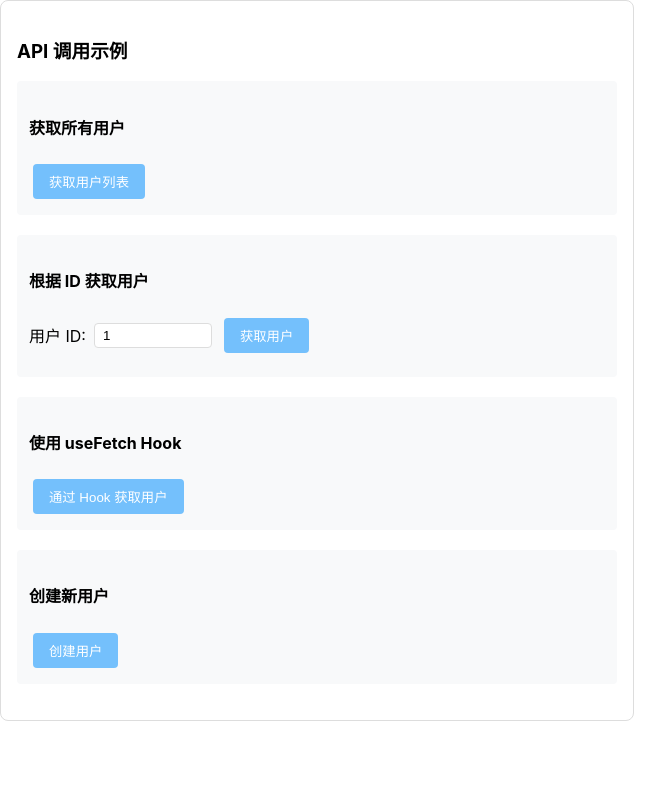
ApiExample组件 › 获取用户列表功能 › 应该处理获取用户列表的错误
Step 1. Click the button with test id "fetch-users-button" → (89, 182), box x1=33 y1=164 x2=145 y2=199
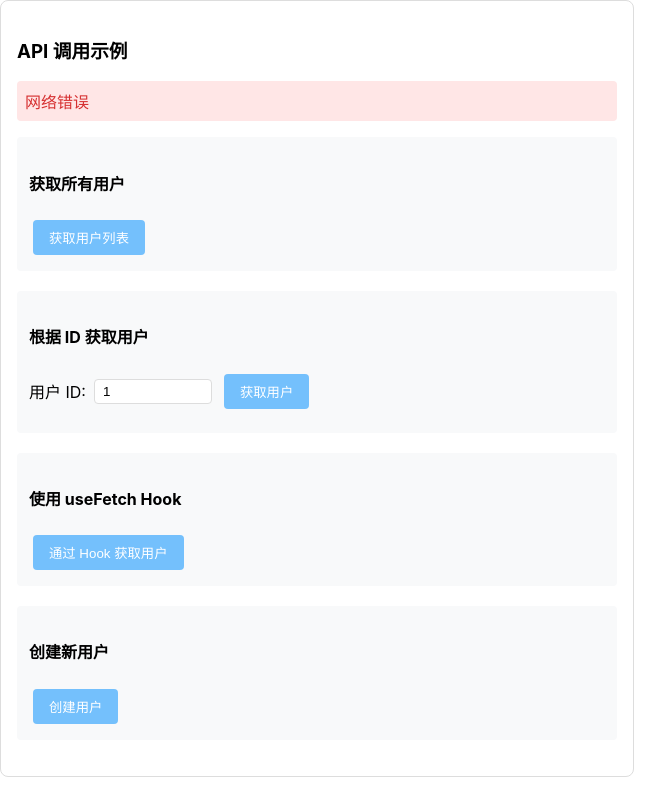
Expected: the text "网络错误" is shown, x1=17 y1=81 x2=617 y2=121
